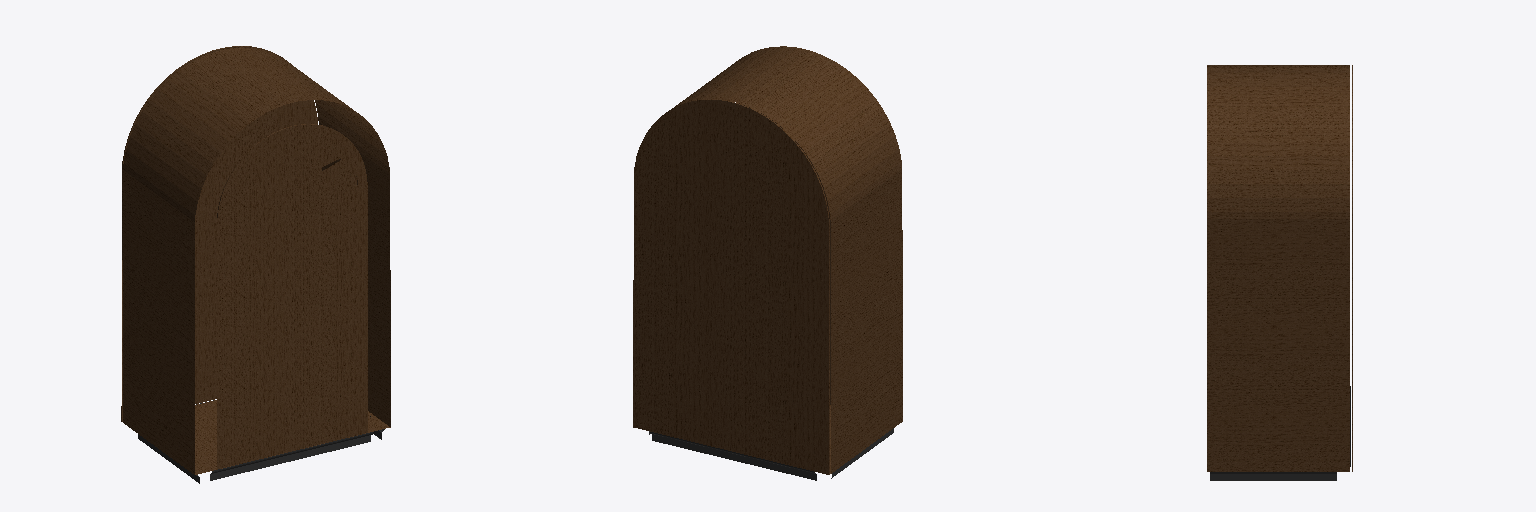
3 renders of one model, left to right at view 1: azimuth 30°, elevation 25°; view 2: azimuth 150°, elevation 25°; view 3: azimuth 270°, elevation 25°, orthographic.
Parts seen in each view (by area): view 1: woodpa, stand; view 2: woodpa, stand; view 3: woodpa, stand.
Boxes of the visible parts, x1,y1,x2,y2 form: woodpa: [121, 46, 390, 474]; stand: [138, 400, 384, 483]; woodpa: [633, 46, 902, 474]; stand: [649, 428, 893, 480]; woodpa: [1207, 65, 1352, 471]; stand: [1210, 386, 1350, 480].
Size of the model in its own units: 0.3607 by 0.6345 by 0.2336.
Materials: 2 (1 with a texture image).